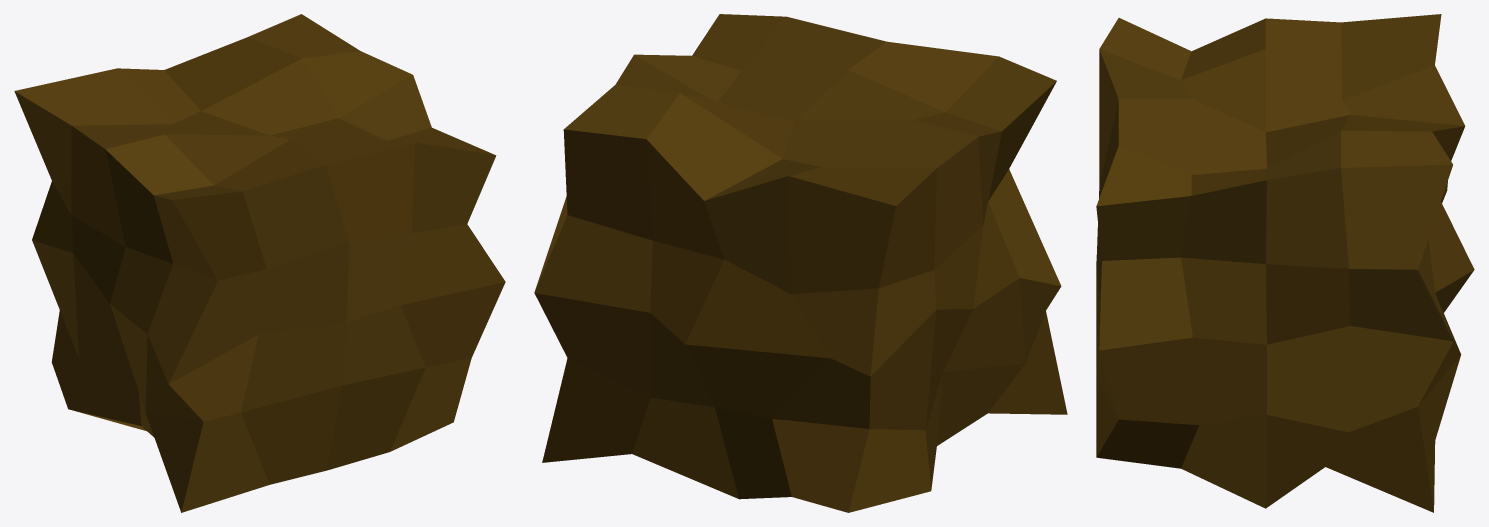
File: RockBlock2.fbx
3 views of the same model, side by side, from view 1: azimuth 30°, elevation 25°; view 2: azimuth 150°, elevation 25°; view 3: azimuth 270°, elevation 25° (orthographic). The views are drawn at different scales.
Parts seen in each view (by area): view 1: Rock2; view 2: Rock2; view 3: Rock2.
Boxes of the visible parts, <box> form: Rock2: <box>14,14,505,512</box>; Rock2: <box>534,14,1067,512</box>; Rock2: <box>1096,14,1474,512</box>.
Size of the model in its own units: 270 by 249 by 251.
